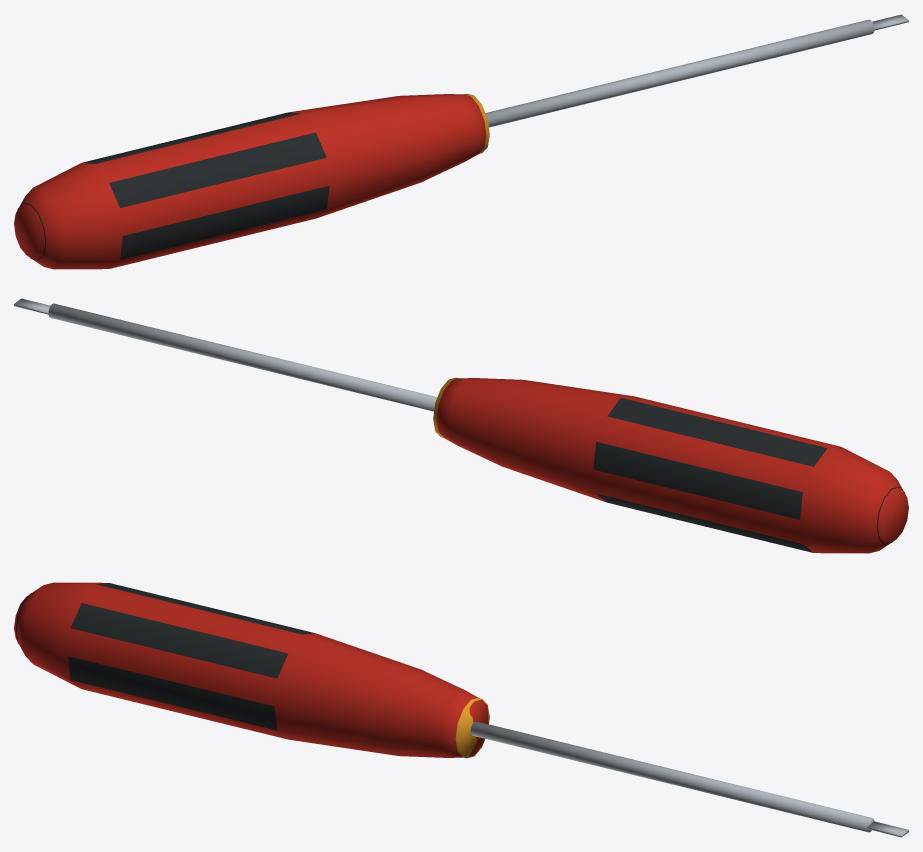
File: lod2_source.glb
3 views of the same model, one above another, from view 1: azimuth 30°, elevation 25°; view 2: azimuth 150°, elevation 25°; view 3: azimuth 330°, elevation 25° (orthographic).
Parts seen in each view (by area): view 1: 23 mm contoured polymer handle, Shaft; view 2: 23 mm contoured polymer handle, Shaft; view 3: 23 mm contoured polymer handle, Shaft, Collar.
Boxes of the visible parts, left/top/right/bottom form: 23 mm contoured polymer handle: left=14, top=94, right=486, bottom=269; Shaft: left=485, top=19, right=874, bottom=127; 23 mm contoured polymer handle: left=436, top=378, right=908, bottom=553; Shaft: left=48, top=303, right=437, bottom=411; 23 mm contoured polymer handle: left=14, top=582, right=487, bottom=757; Shaft: left=470, top=721, right=874, bottom=832; Collar: left=455, top=698, right=489, bottom=758.
Size of the model in its own units: 0.204 by 0.023 by 0.0221.
